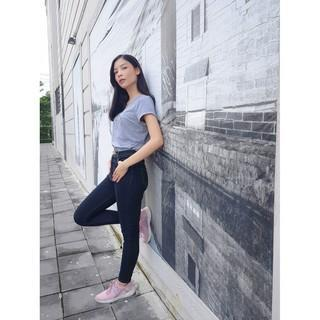Tshirt: (108, 95, 159, 154)
pants: (73, 151, 147, 282)
